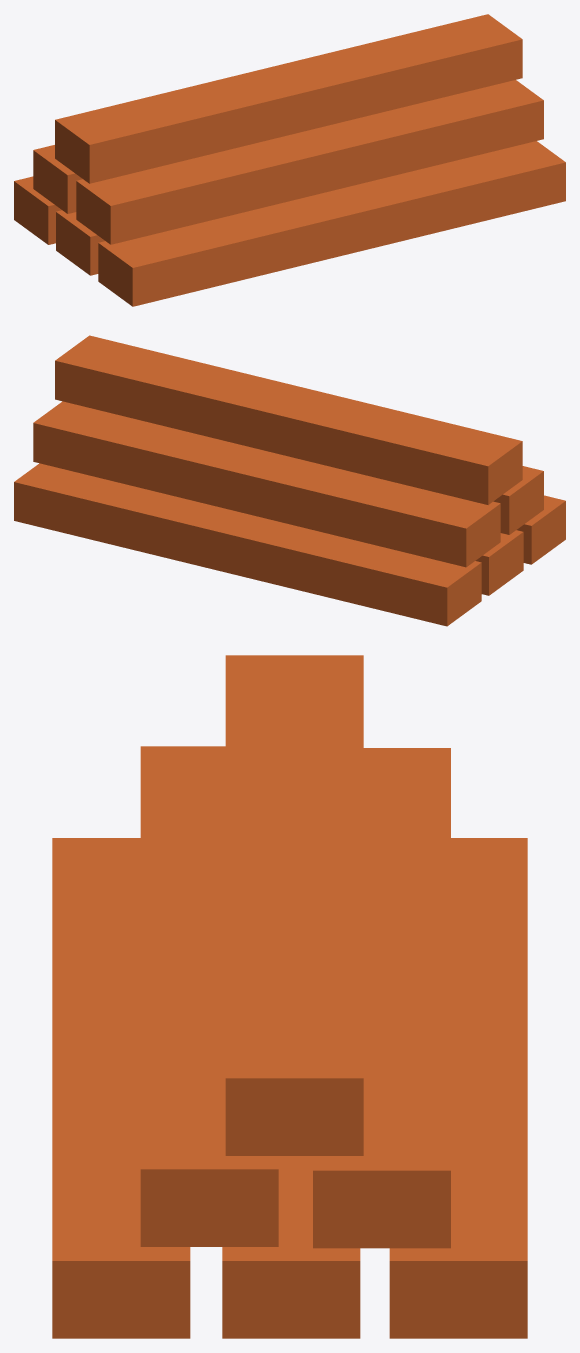
The model's file is CarrotCut.fbx.
The picture shows the model from 3 angles, top to bottom: view 1: azimuth 30°, elevation 25°; view 2: azimuth 150°, elevation 25°; view 3: azimuth 270°, elevation 25°; orthographic projection. The views are drawn at different scales.
Parts seen in each view (by area): view 1: CS1; view 2: CS1; view 3: CS1.
Boxes of the visible parts, <box> form: CS1: <box>14,14,565,306</box>; CS1: <box>14,335,565,626</box>; CS1: <box>52,655,527,1338</box>.
Bounding box in the file's own units: 5.91 × 1.7 × 2.81.
